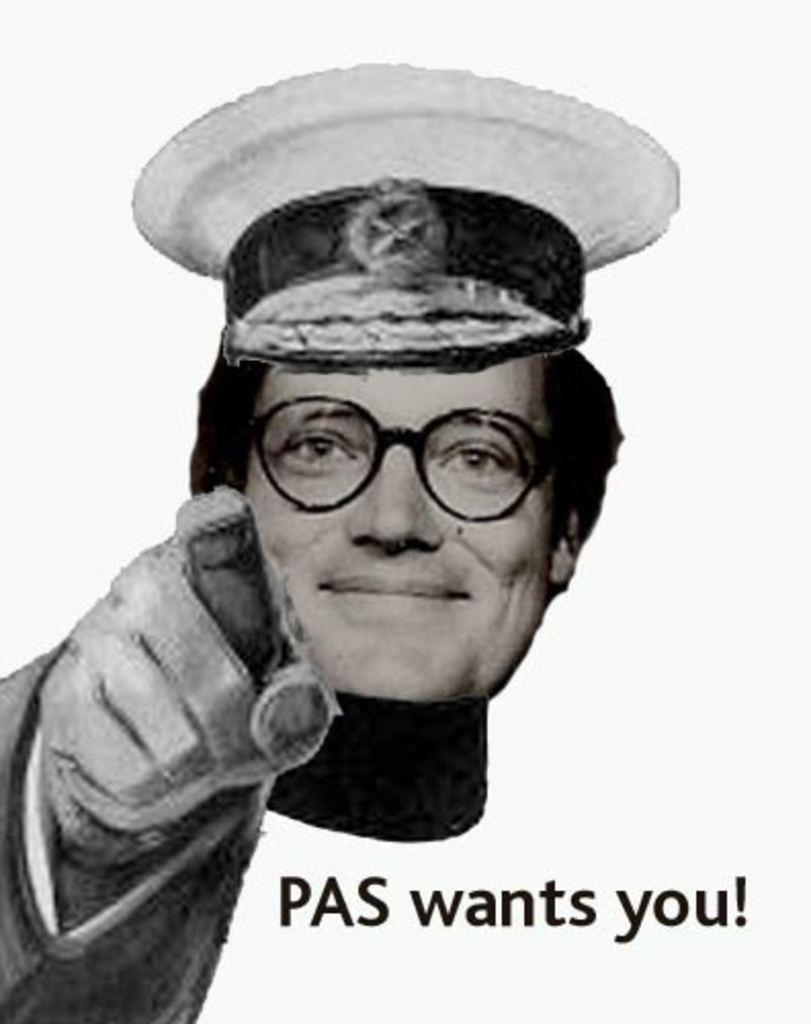Hat: (129, 52, 684, 374)
